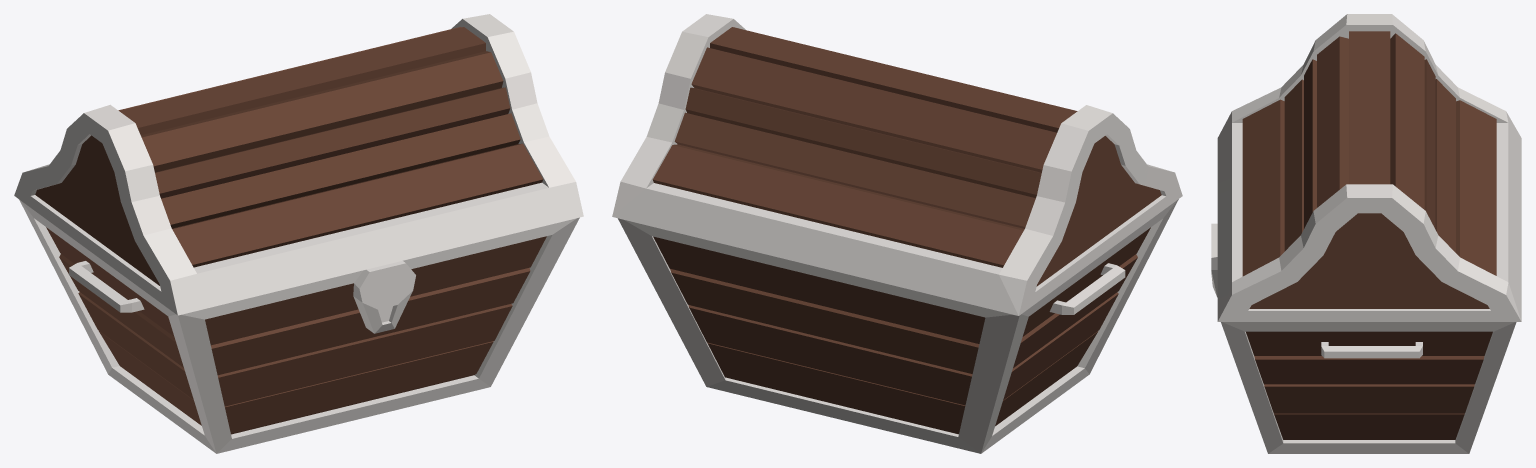
The model's file is Treasure_Chest_2.fbx.
The picture shows the model from 3 angles, left to right: view 1: azimuth 30°, elevation 25°; view 2: azimuth 150°, elevation 25°; view 3: azimuth 270°, elevation 25°; orthographic projection. The views are drawn at different scales.
Parts seen in each view (by area): view 1: Treasure_Chest_2; view 2: Treasure_Chest_2; view 3: Treasure_Chest_2.
Boxes of the visible parts, x1=… form: Treasure_Chest_2: x1=14, y1=14, x2=583, y2=453; Treasure_Chest_2: x1=612, y1=14, x2=1182, y2=453; Treasure_Chest_2: x1=1211, y1=14, x2=1521, y2=453.
Size of the model in its own units: 0.7514 by 0.5471 by 0.5356.
